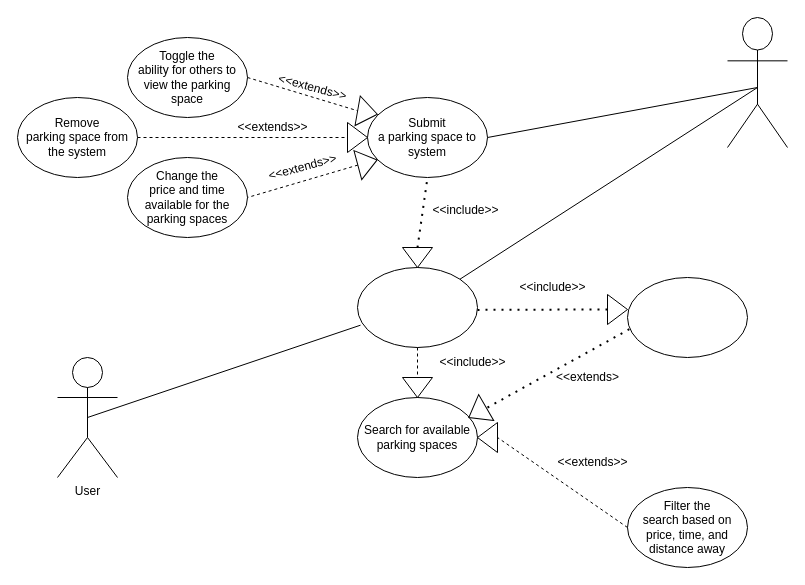
Image size: 805x585. Some labels were removed from this diagram. The centre of each missing label's shape, as x and y in pixels:
"Create an account and log in" belongs at point (417, 307).
"Owner" belongs at point (757, 82).
"Reserve a parking spot" belongs at point (687, 317).
